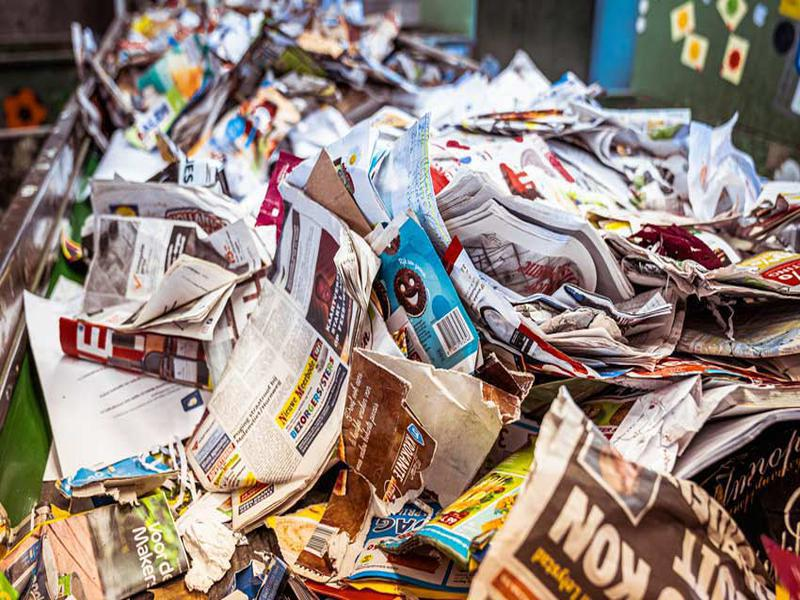paper: (459, 380, 782, 600), (254, 112, 485, 372), (293, 345, 520, 600), (185, 279, 351, 541), (58, 180, 254, 394), (434, 168, 643, 305), (608, 224, 800, 366)
